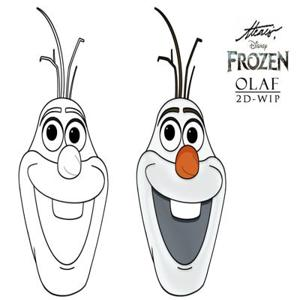olaf: (144, 8, 227, 298)
